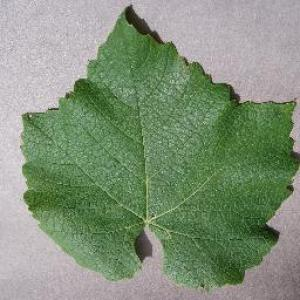Folha: (19, 3, 299, 292)
